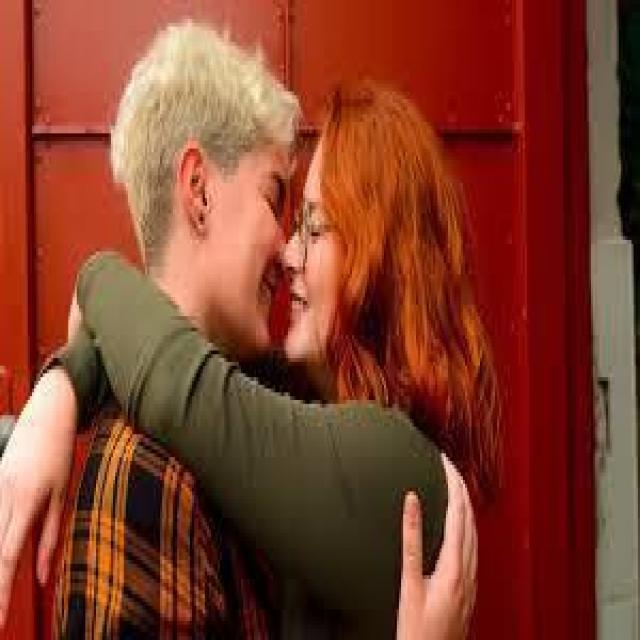person: (254, 23, 499, 636), (66, 19, 299, 636)
